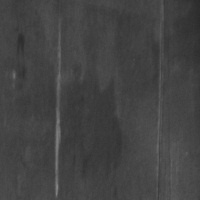scratches: (152, 1, 168, 178), (51, 29, 65, 197)
